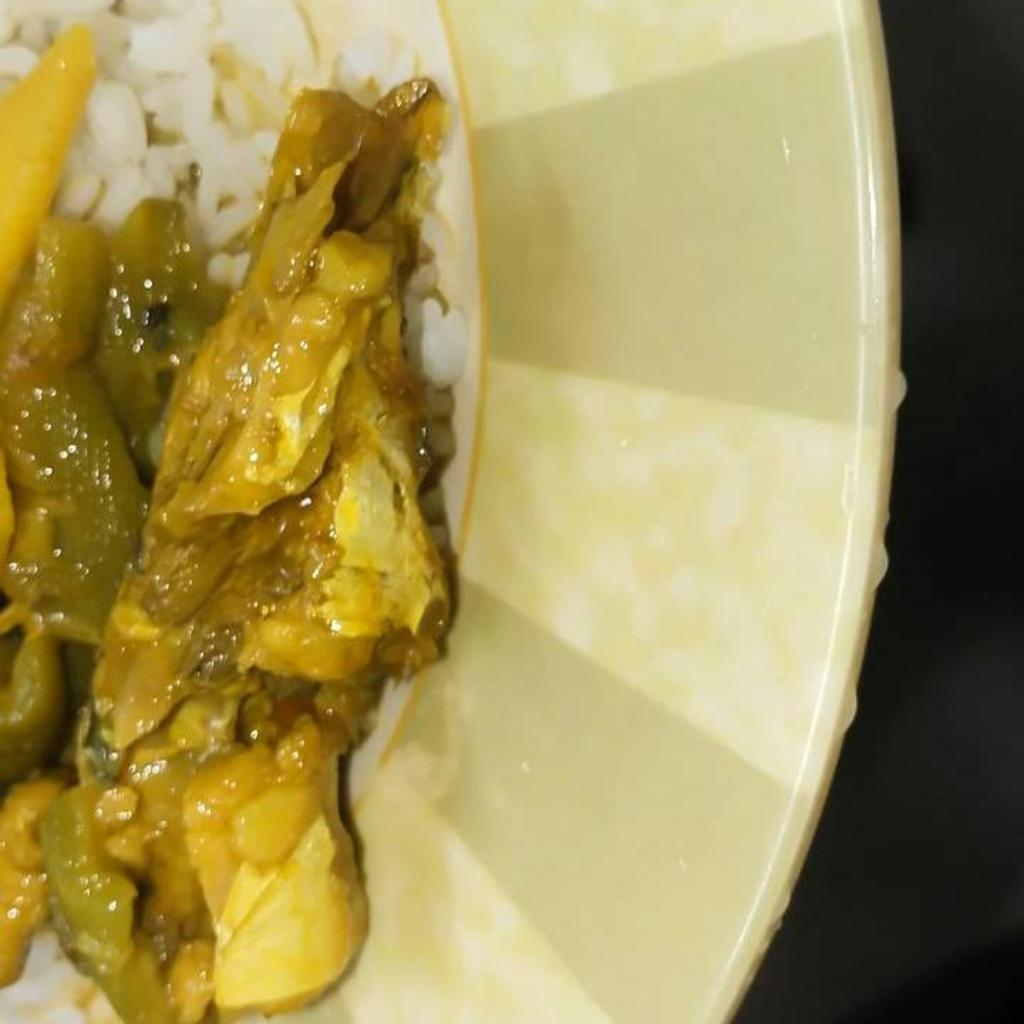chicken: (0, 27, 462, 1023)
rice: (6, 0, 410, 226)
